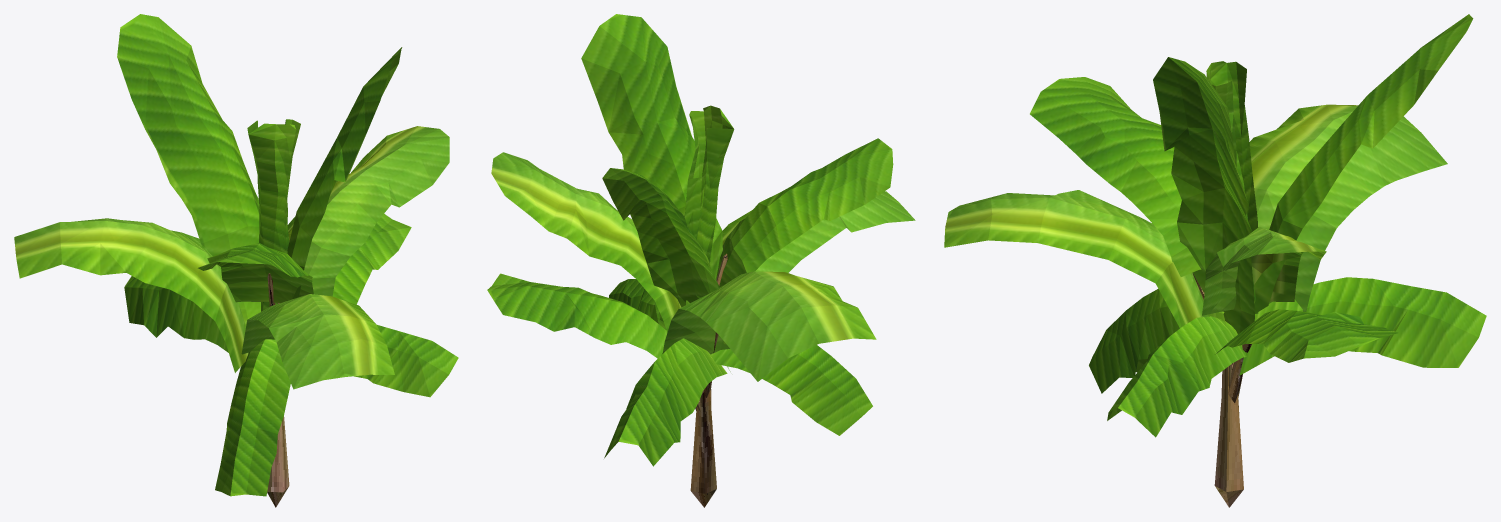
The model's file is banana_tree.obj.
3 renders of one model, left to right at view 1: azimuth 30°, elevation 25°; view 2: azimuth 150°, elevation 25°; view 3: azimuth 270°, elevation 25°, orthographic. The views are drawn at different scales.
Parts seen in each view (by area): view 1: Bananatree, Bananatre0; view 2: Bananatree, Bananatre0; view 3: Bananatree, Bananatre0, Bananatre1.
Boxes of the visible parts, x1,y1,x2,y2 form: Bananatree: [14, 14, 458, 496]; Bananatre0: [267, 416, 289, 507]; Bananatree: [487, 14, 915, 466]; Bananatre0: [690, 389, 716, 507]; Bananatree: [944, 14, 1486, 437]; Bananatre0: [1214, 366, 1243, 507]; Bananatre1: [1192, 273, 1251, 402].
Size of the model in its own units: 5.62 by 6.02 by 5.86.
2 materials, 2 textured.
